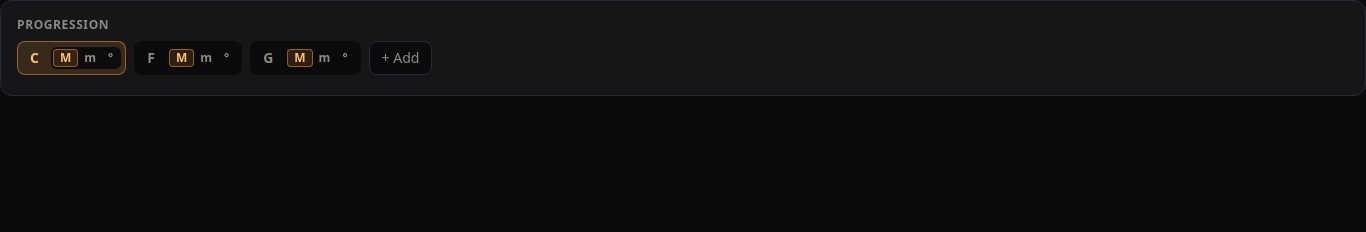
Test: ProgressionBar › add chord picker › clicking + Add opens the chromatic note picker
Step 1. Click the button "+ Add" → (400, 58), box [368,41,432,75]
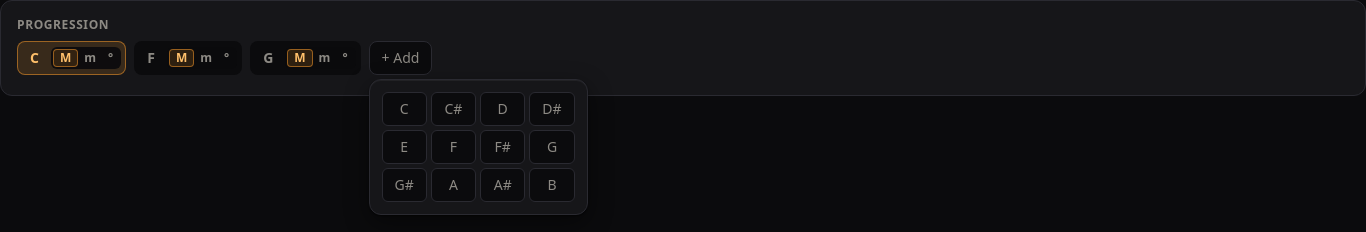
Check: the button named "Add C major chord" is shown, box [382,92,427,126]
Check: the button named "Add F# major chord" is shown, box [480,130,525,164]
